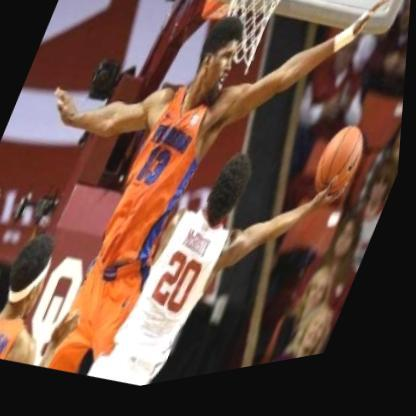basketball: (309, 130, 377, 219)
rim: (188, 0, 320, 92)
